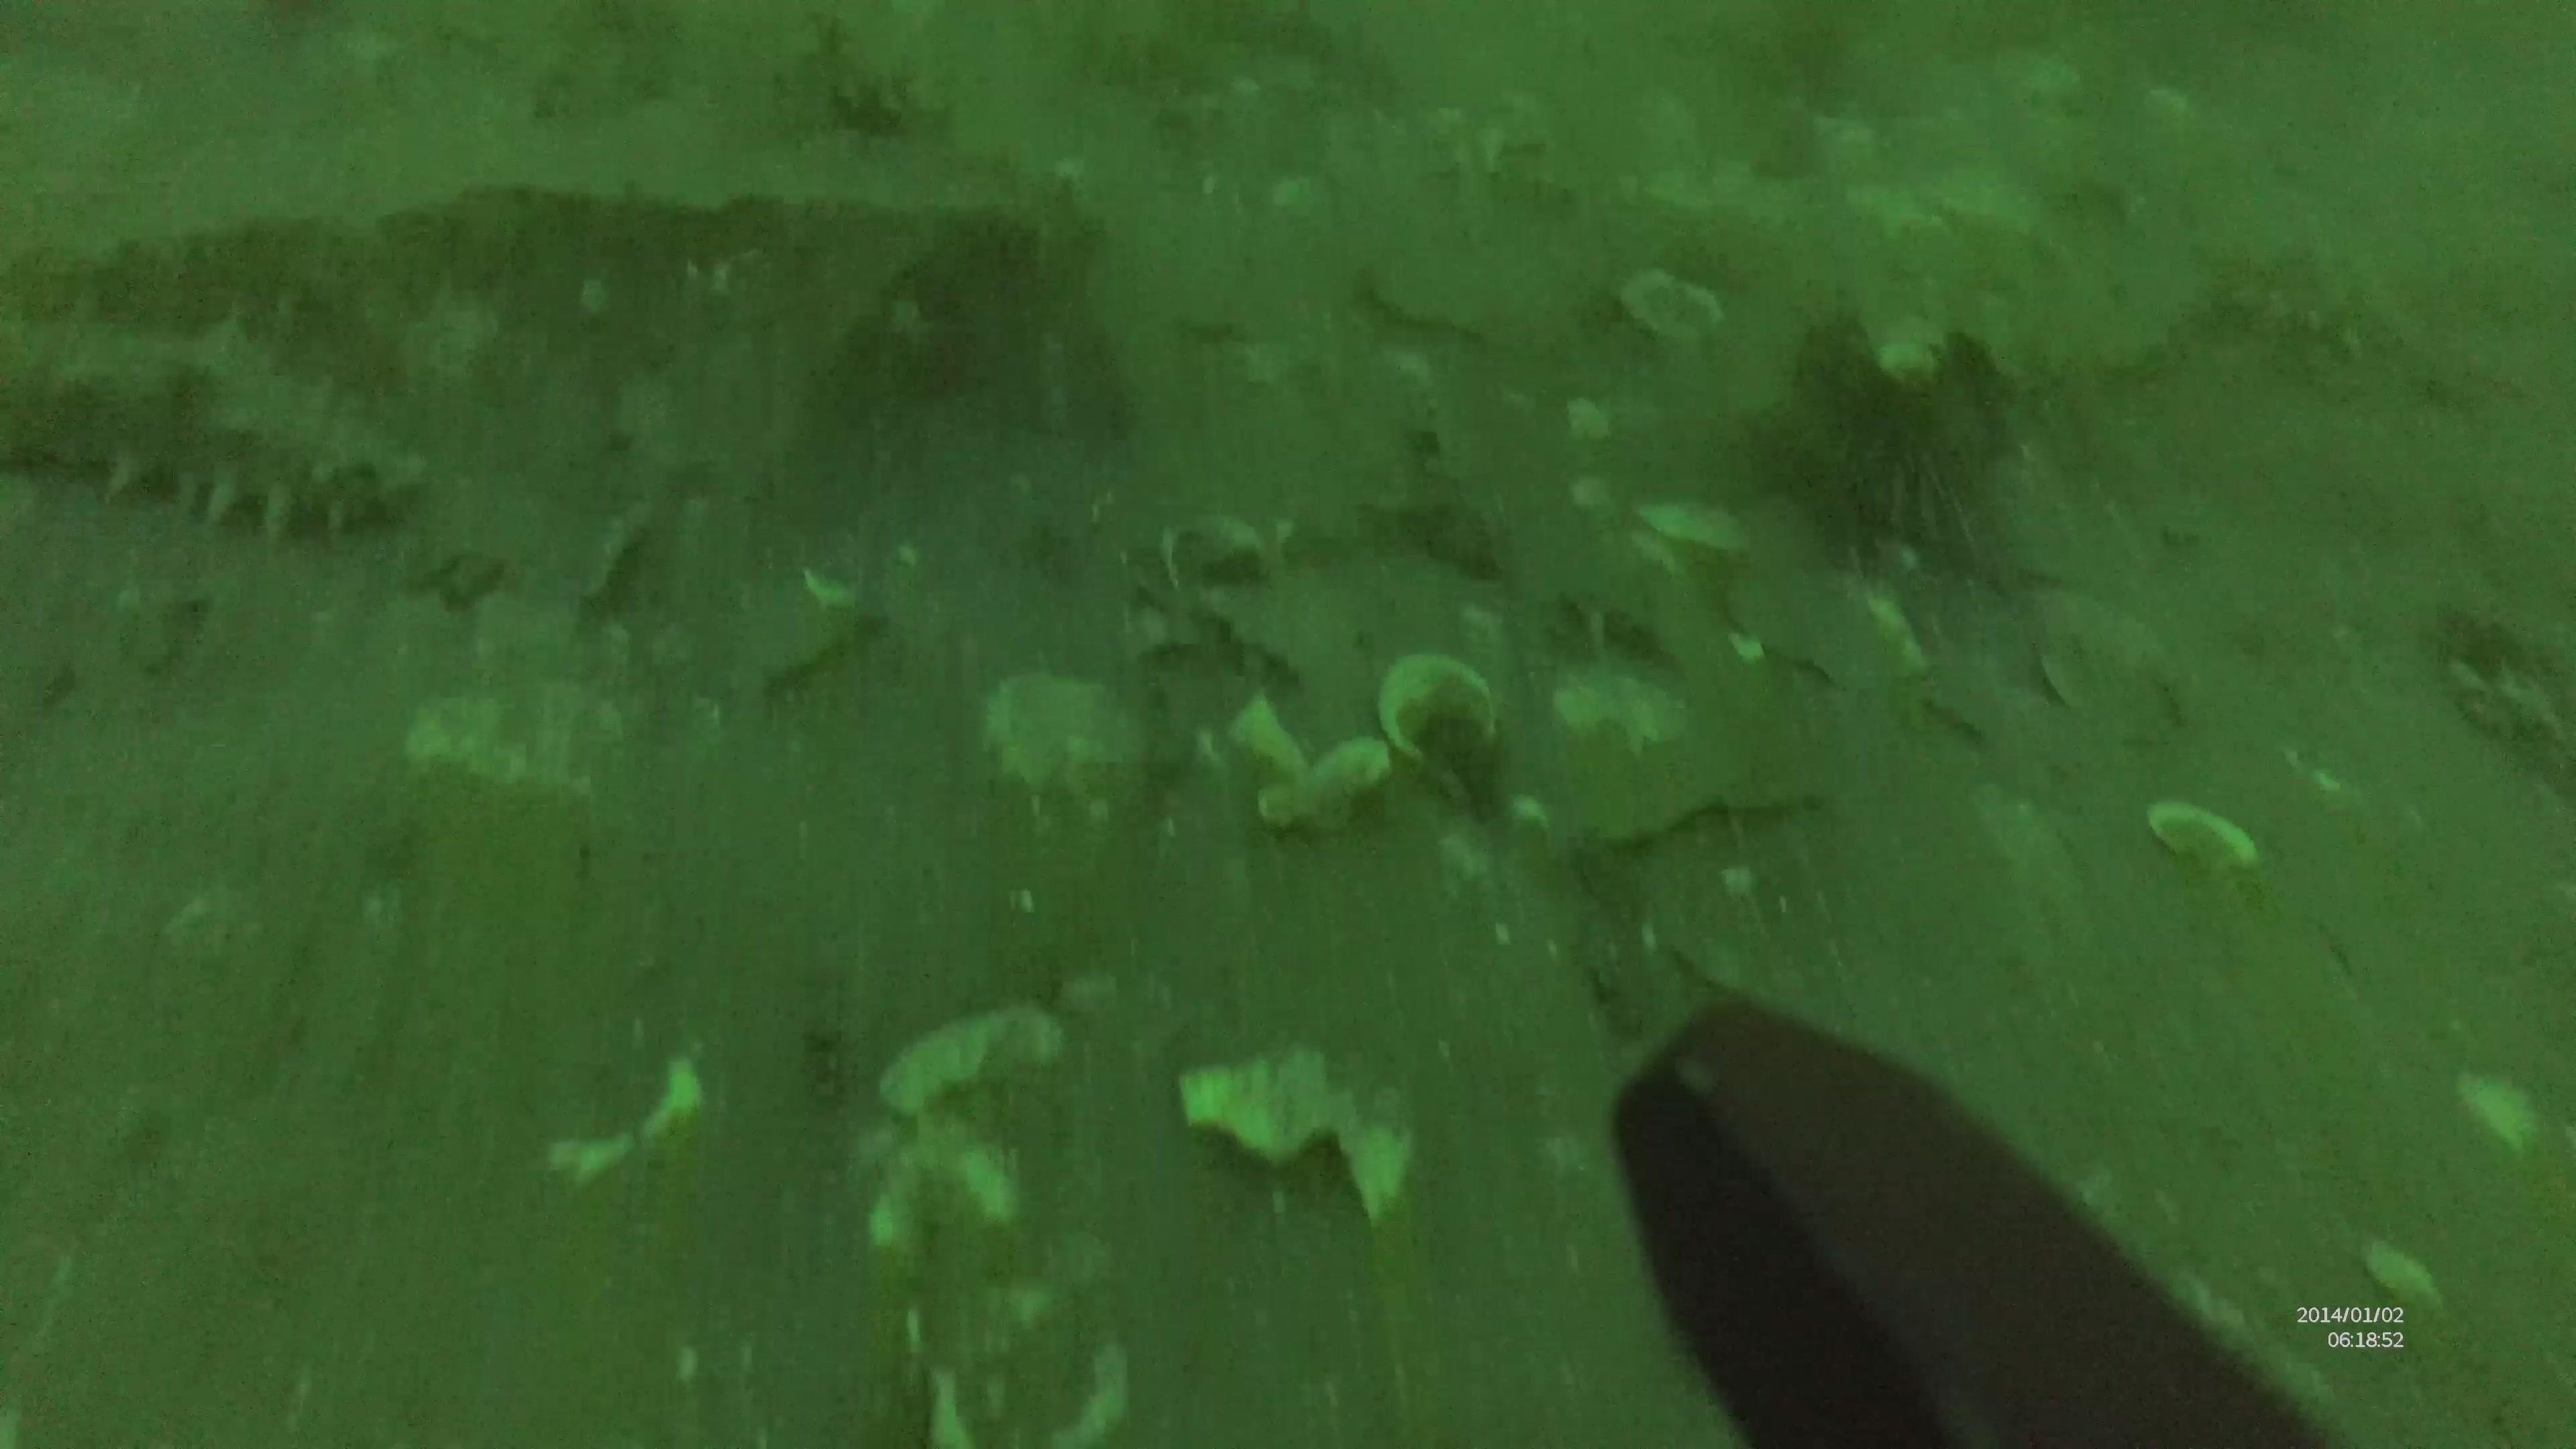holothurian: (0, 310, 446, 556)
